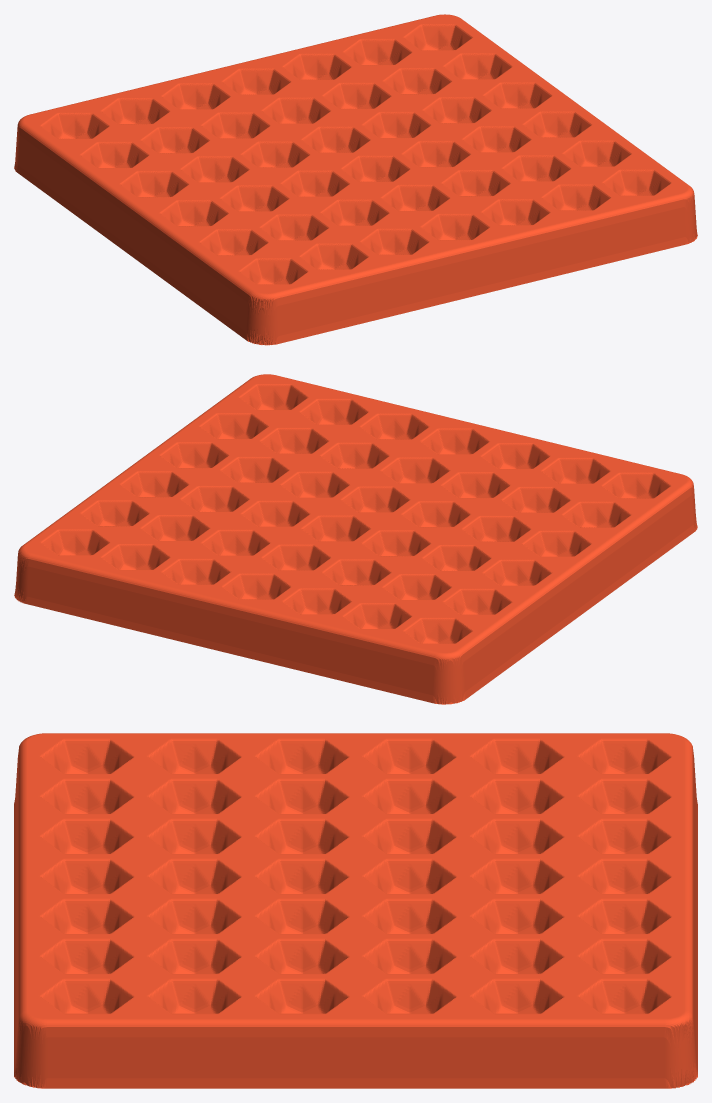
File: mold.glb
3 views of the same model, one above another, from view 1: azimuth 30°, elevation 25°; view 2: azimuth 150°, elevation 25°; view 3: azimuth 270°, elevation 25° (orthographic). The views are drawn at different scales.
Parts seen in each view (by area): view 1: geometry_0; view 2: geometry_0; view 3: geometry_0.
Part boxes in pixels (left/top/right/bottom): geometry_0: left=14, top=14, right=697, bottom=345; geometry_0: left=14, top=374, right=697, bottom=704; geometry_0: left=14, top=733, right=697, bottom=1088.
Bounding box in the file's own units: 0.1922 × 0.0194 × 0.1875.
